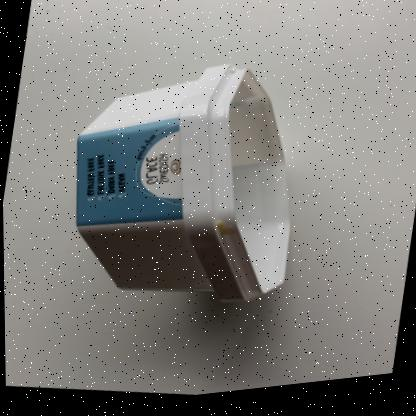Plastic: (74, 68, 288, 307)
